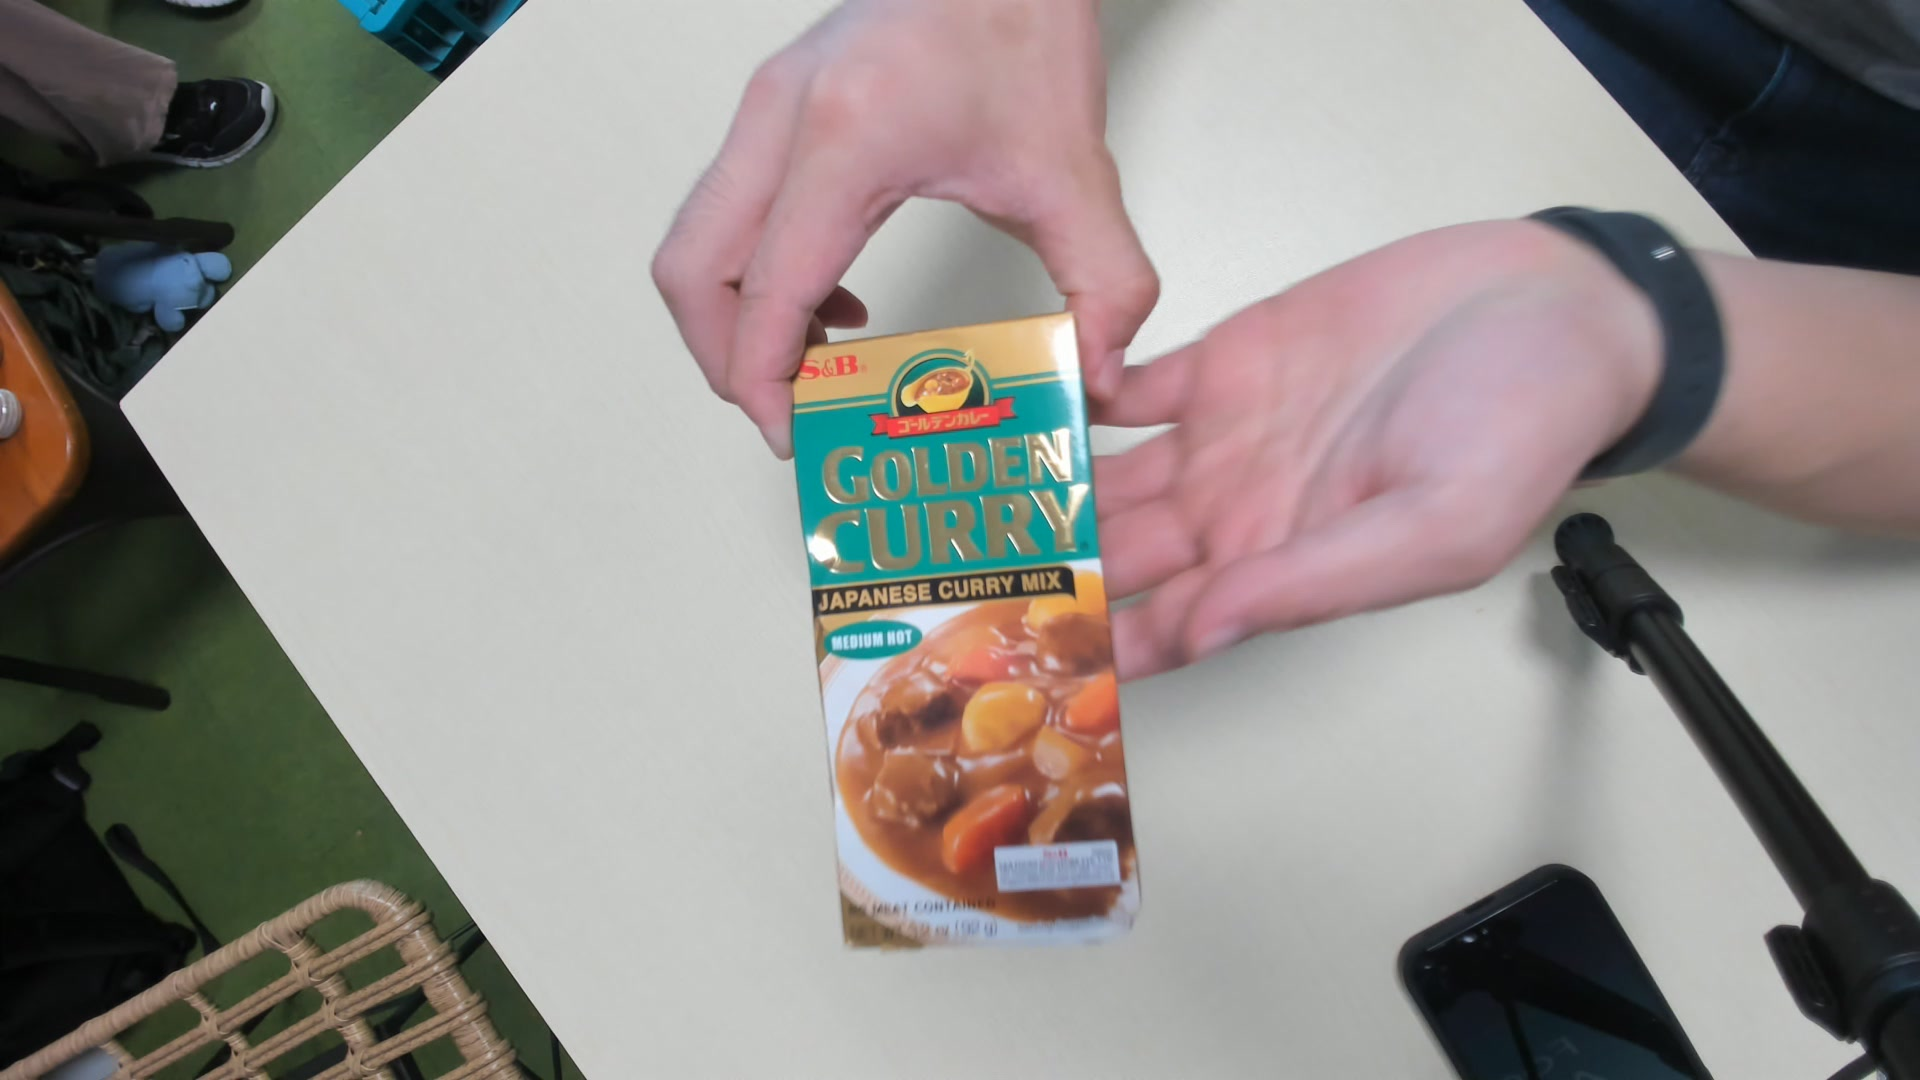OtherSauceDressing_0-99g_NonHalal_NonHealthy: (781, 313, 1145, 963)
